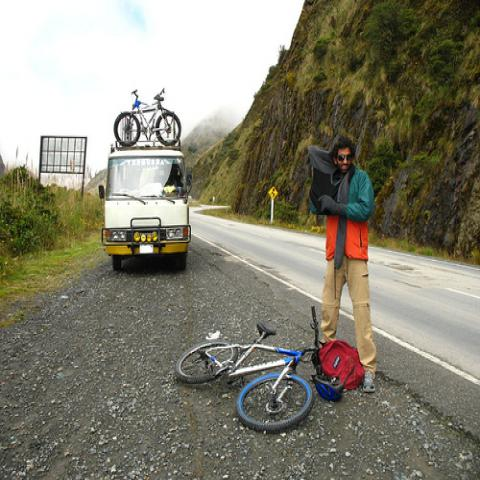truck: (101, 141, 188, 274)
